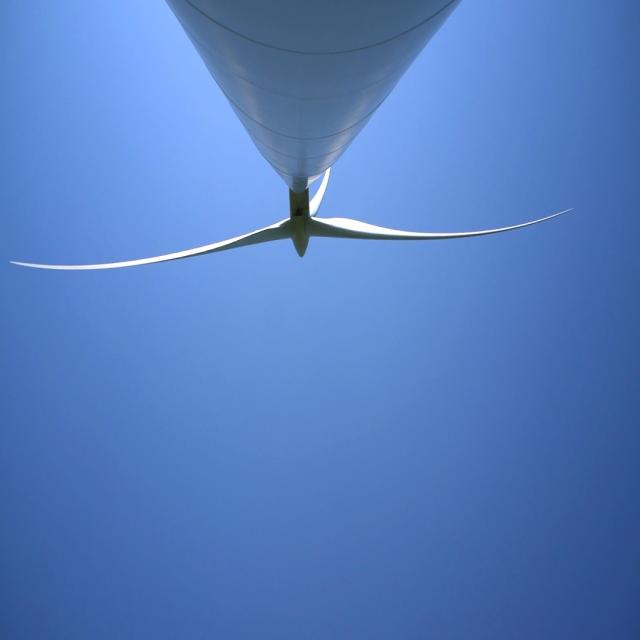blade 1: (308, 179, 320, 215)
blade 2: (6, 226, 278, 286)
blade 3: (324, 175, 589, 253)
